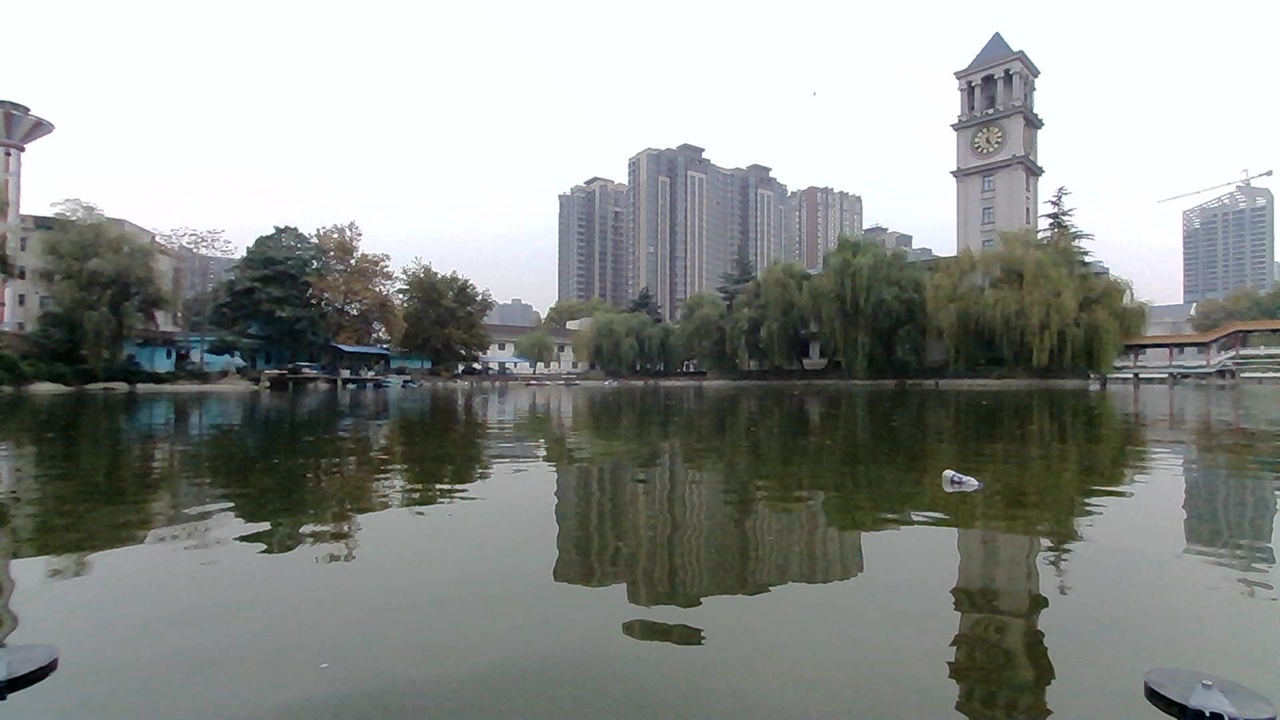bottle: (943, 465, 982, 495)
